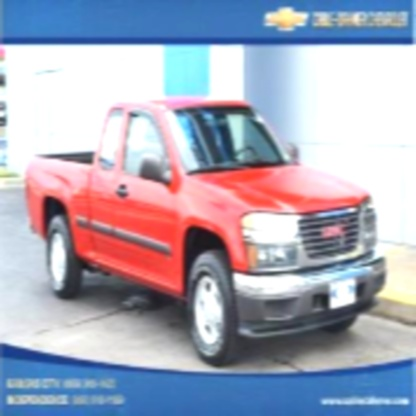Vehicle: (26, 98, 389, 370)
